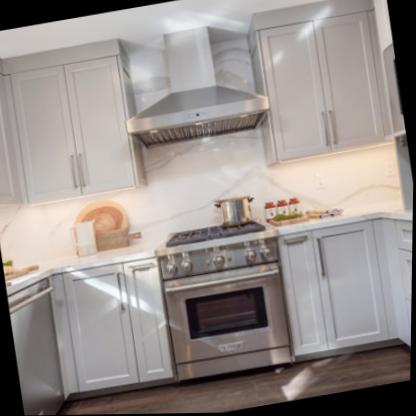Cabinet: (47, 215, 399, 399), (255, 10, 390, 164), (4, 55, 139, 205)
